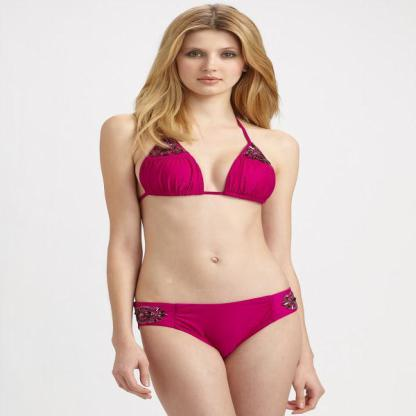long-hair: (126, 92, 287, 128)
